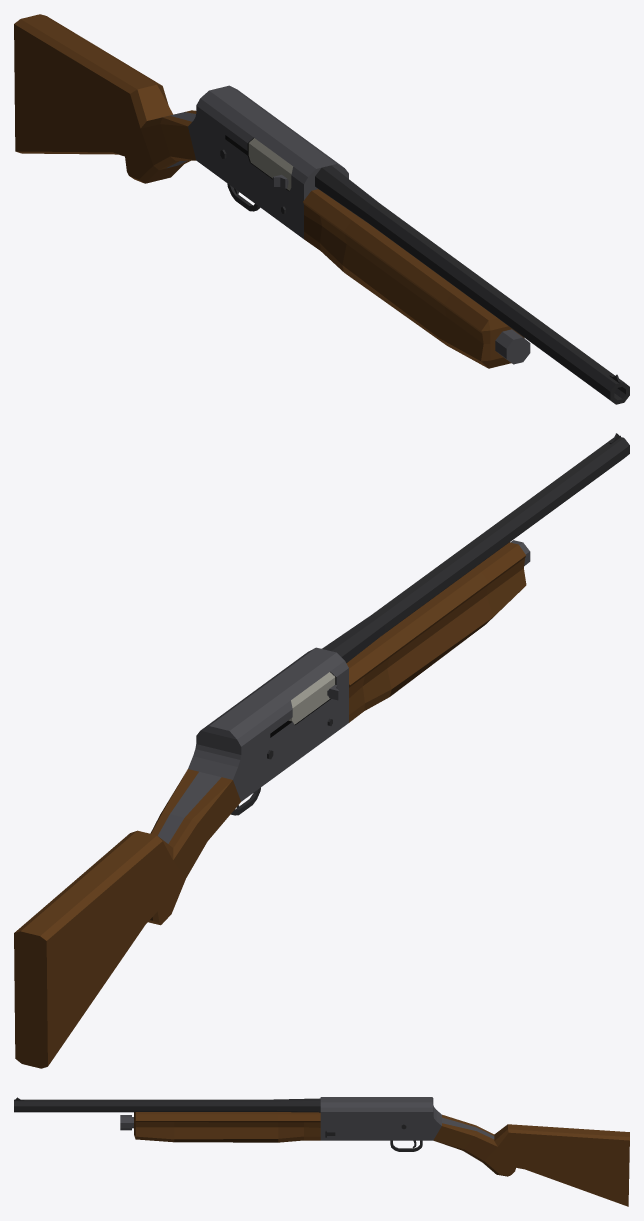
Rendered from Auto5-M.fbx.
The picture shows the model from 3 angles, top to bottom: view 1: azimuth 30°, elevation 25°; view 2: azimuth 150°, elevation 25°; view 3: azimuth 270°, elevation 25°; orthographic projection. The views are drawn at different scales.
Visible parts, largest first — view 1: Stock Medium, Forearm, Receiver, Barrel Short, Grip, Barrel Medium, Bolt, Mag Tube; view 2: Stock Medium, Receiver, Forearm, Barrel Short, Grip, Barrel Medium, Tang, Bolt; view 3: Stock Medium, Forearm, Receiver, Barrel Short, Grip, Barrel Medium, Tang, Mag Tube.
Part boxes in pixels (left/top/right/bottom): Stock Medium: left=14, top=14, right=173, bottom=156; Forearm: left=303, top=189, right=524, bottom=368; Receiver: left=188, top=85, right=348, bottom=238; Barrel Short: left=315, top=165, right=521, bottom=327; Grip: left=125, top=110, right=196, bottom=183; Barrel Medium: left=508, top=307, right=629, bottom=404; Bolt: left=248, top=138, right=293, bottom=190; Mag Tube: left=495, top=329, right=530, bottom=364; Stock Medium: left=14, top=830, right=173, bottom=1068; Receiver: left=188, top=647, right=348, bottom=801; Forearm: left=346, top=542, right=526, bottom=722; Barrel Short: left=322, top=510, right=528, bottom=662; Grip: left=148, top=769, right=240, bottom=925; Barrel Medium: left=515, top=437, right=629, bottom=530; Tang: left=158, top=771, right=221, bottom=843; Bolt: left=288, top=672, right=335, bottom=724; Stock Medium: left=494, top=1124, right=629, bottom=1206; Forearm: left=134, top=1112, right=320, bottom=1142; Receiver: left=320, top=1097, right=441, bottom=1140; Barrel Short: left=120, top=1098, right=320, bottom=1112; Grip: left=433, top=1114, right=515, bottom=1176; Barrel Medium: left=14, top=1099, right=120, bottom=1112; Tang: left=442, top=1117, right=494, bottom=1138; Mag Tube: left=120, top=1115, right=133, bottom=1130.
Size of what is drawn, in the model's own units: 0.0661 by 0.2174 by 1.14.
